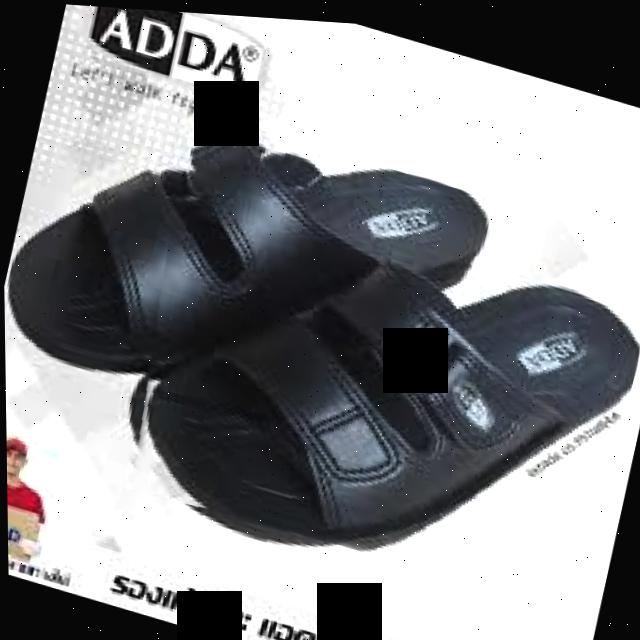shoe: (1, 66, 640, 640), (106, 170, 640, 617)
